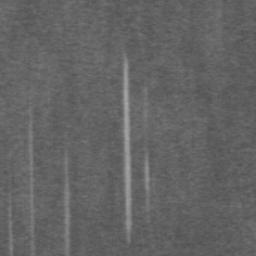Bright scratch: (123, 53, 132, 244), (29, 123, 35, 256), (65, 160, 70, 256), (8, 194, 13, 256), (144, 152, 149, 190)
